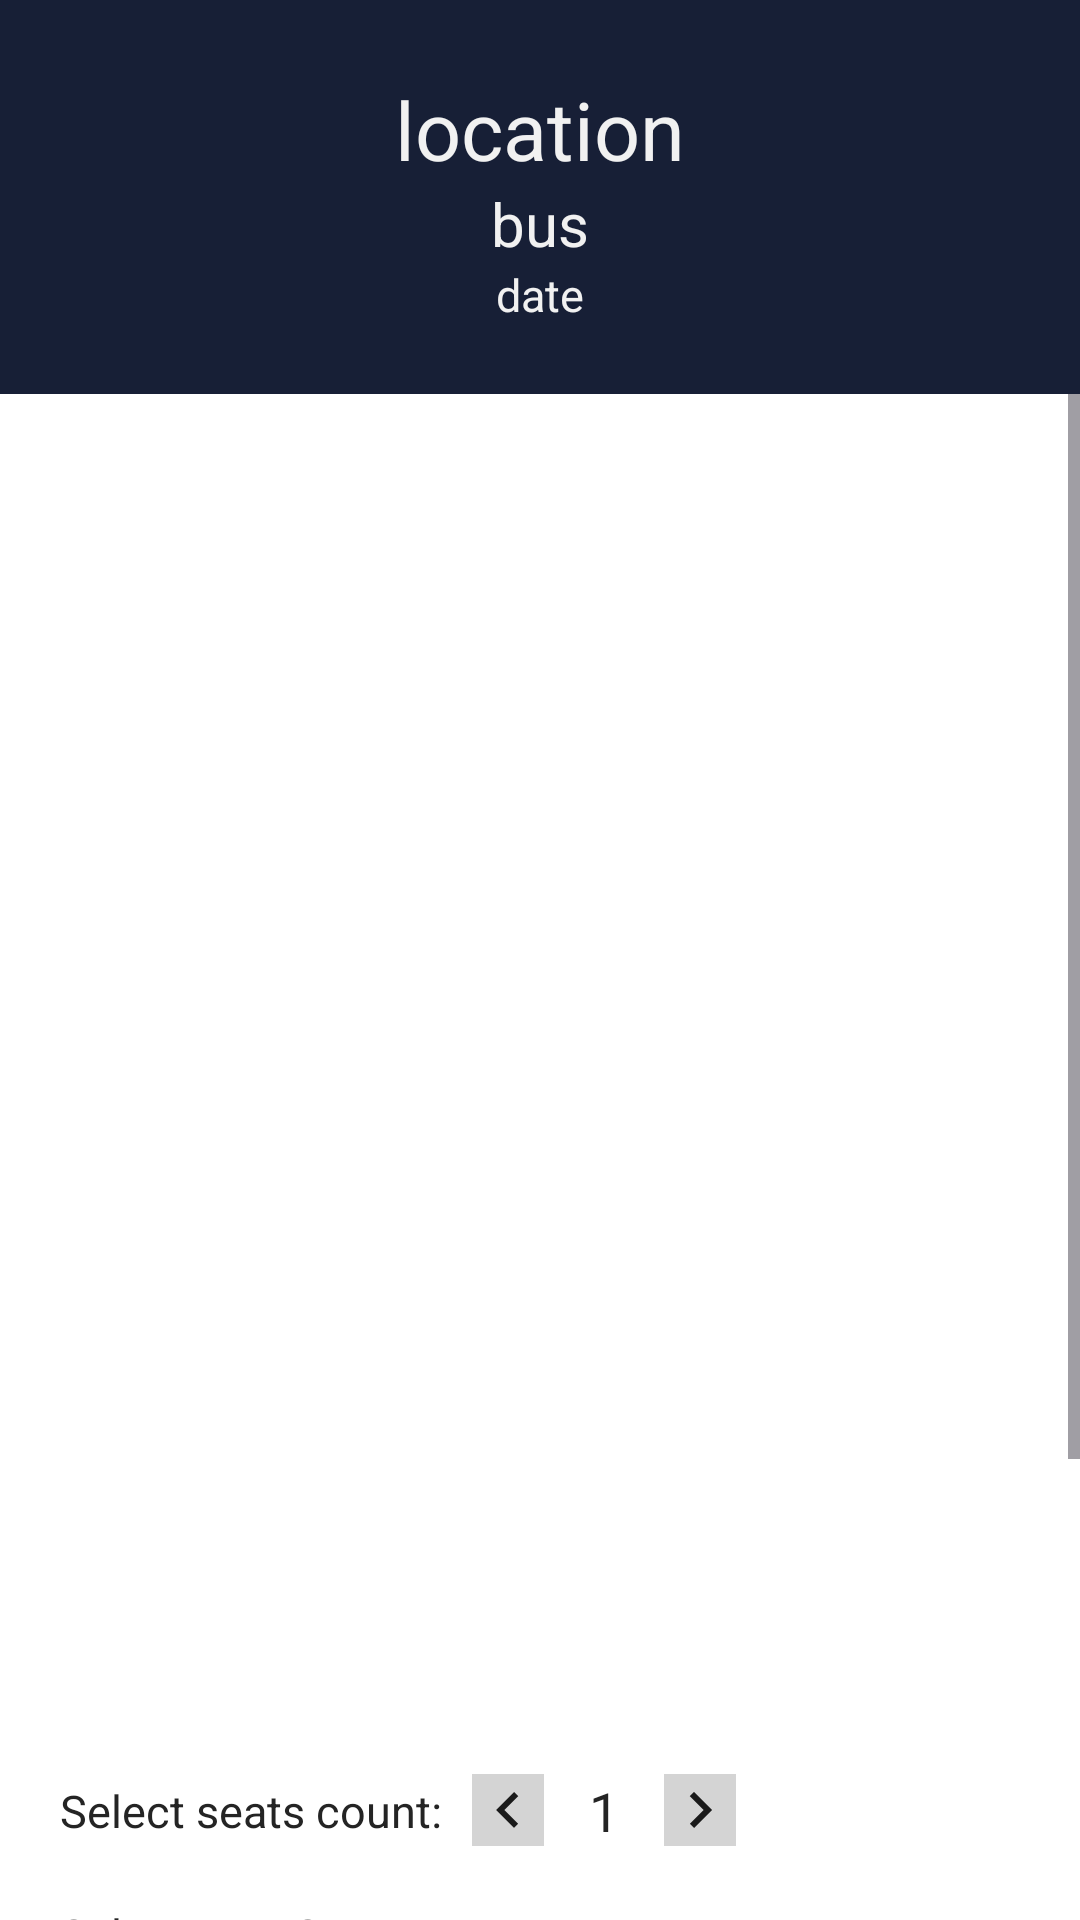

Named icons in this screenshot (1080 × 1920) and their bounding boxes, (x1, y1, x2, y2):
arrow left: (472, 1774, 544, 1846)
arrow right: (664, 1774, 736, 1846)
